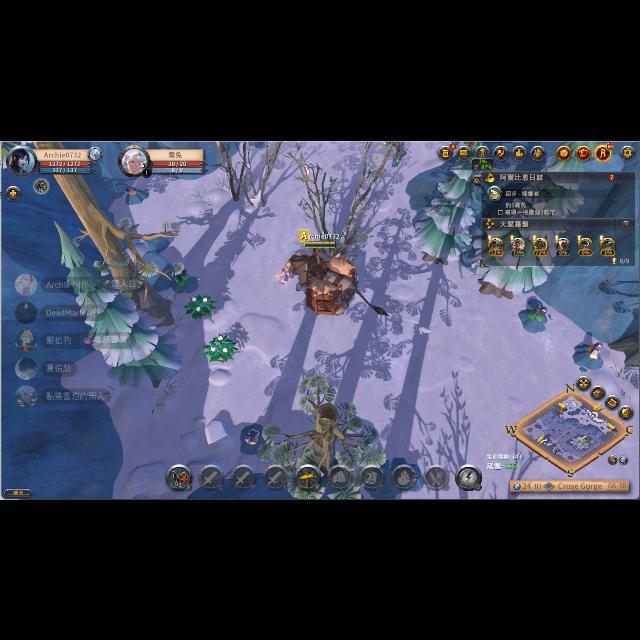mine_ii: (573, 332, 611, 370), (240, 422, 268, 452), (125, 182, 149, 202)
mine_iii: (168, 264, 200, 292), (525, 298, 553, 330)
